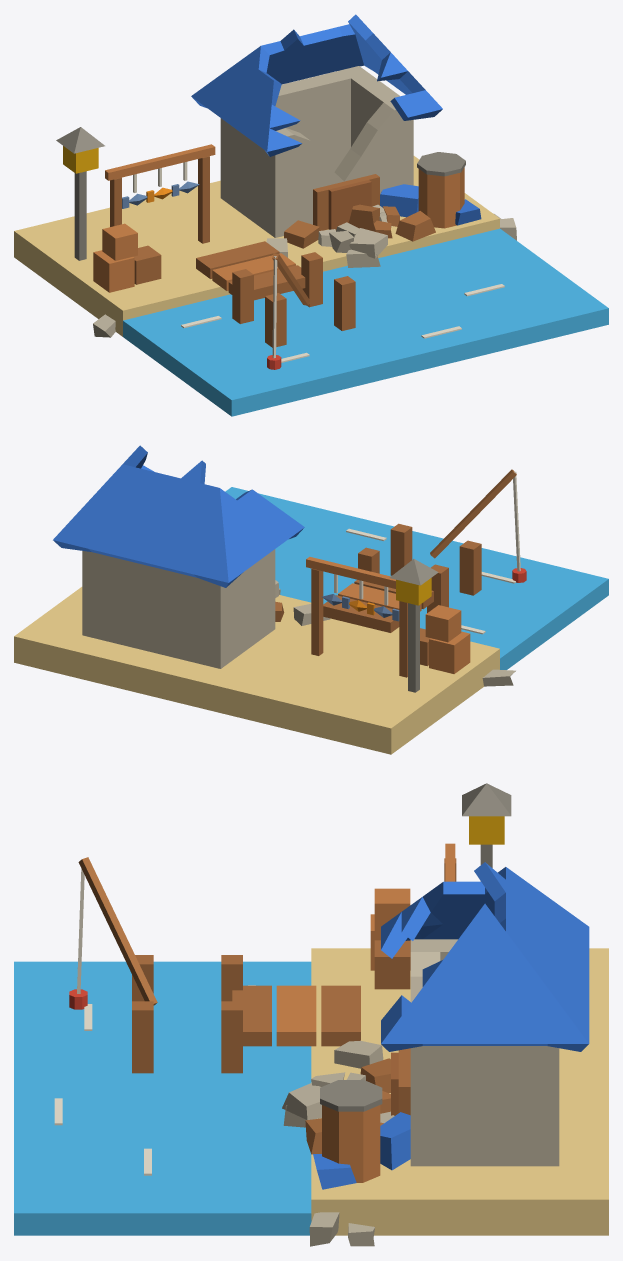
File: fishery_t1_v2_dmg1.glb
3 views of the same model, one above another, from view 1: azimuth 30°, elevation 25°; view 2: azimuth 150°, elevation 25°; view 3: azimuth 270°, elevation 25° (orthographic). The views are drawn at different scales.
Parts seen in each view (by area): view 1: fishery_t1_v2_dmg1; view 2: fishery_t1_v2_dmg1; view 3: fishery_t1_v2_dmg1.
Boxes of the visible parts, left/top/right/bottom form: fishery_t1_v2_dmg1: left=14, top=14, right=608, bottom=416; fishery_t1_v2_dmg1: left=14, top=445, right=608, bottom=754; fishery_t1_v2_dmg1: left=14, top=783, right=608, bottom=1246.
Bounding box in the file's own units: 0.6664 × 0.31 × 0.6.
1 material, 1 textured.
